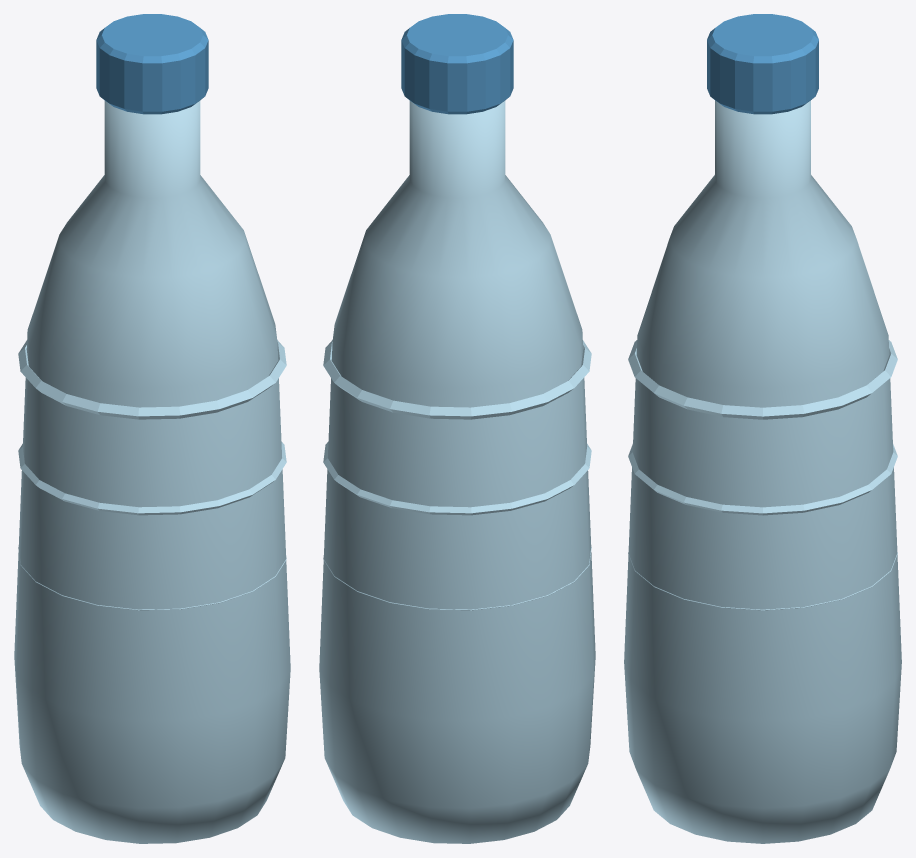
File: item_clean_water.glb
3 renders of one model, left to right at view 1: azimuth 30°, elevation 25°; view 2: azimuth 150°, elevation 25°; view 3: azimuth 270°, elevation 25°, orthographic.
Parts seen in each view (by area): view 1: item_clean_water; view 2: item_clean_water; view 3: item_clean_water.
Boxes of the visible parts, left/top/right/bottom form: item_clean_water: left=14, top=14, right=290, bottom=843; item_clean_water: left=319, top=14, right=595, bottom=843; item_clean_water: left=624, top=14, right=901, bottom=843.
Bounding box in the file's own units: 0.104 × 0.314 × 0.104.
